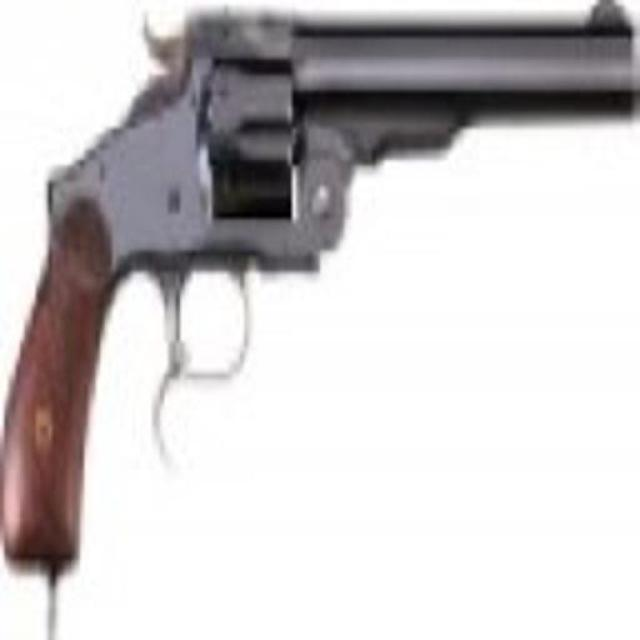pistol: (4, 5, 628, 570)
